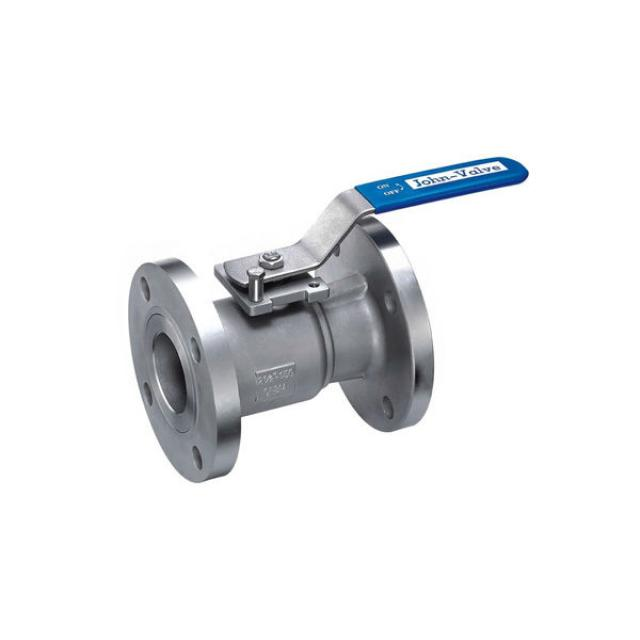Lever Handle Valve Threaded: (212, 148, 546, 308)
